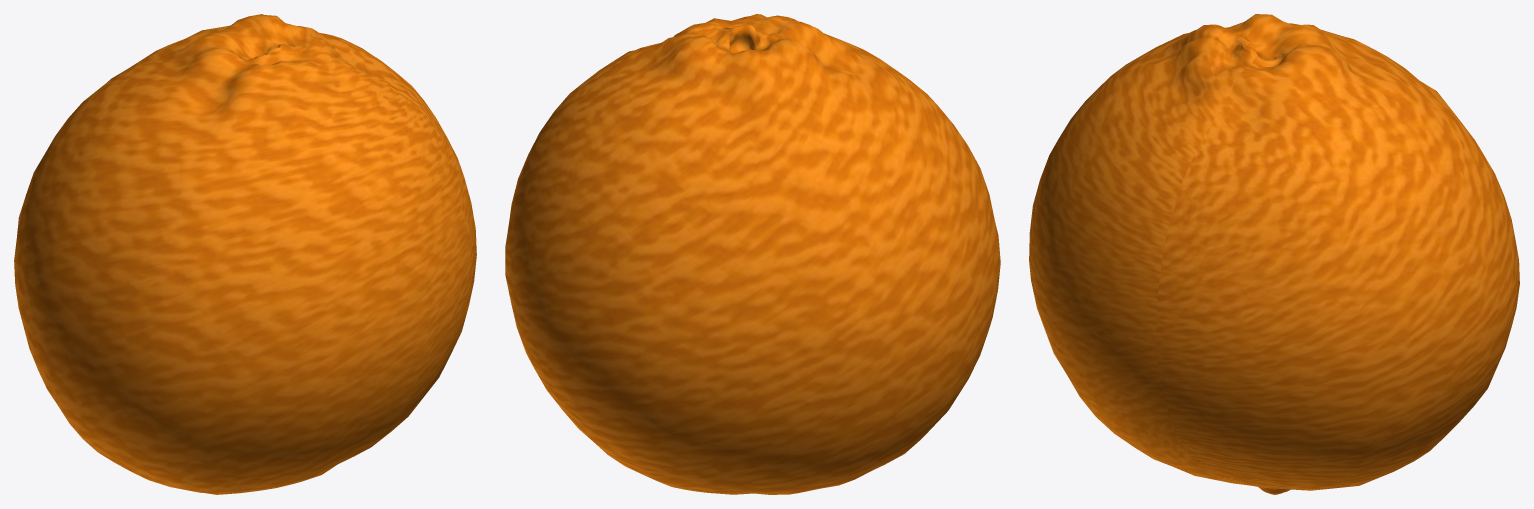
File: Orange.fbx
3 views of the same model, side by side, from view 1: azimuth 30°, elevation 25°; view 2: azimuth 150°, elevation 25°; view 3: azimuth 270°, elevation 25° (orthographic). The views are drawn at different scales.
Parts seen in each view (by area): view 1: Lime; view 2: Lime; view 3: Lime.
Part boxes in pixels (x1,y1,x2,y2): Lime: (14,14,476,494); Lime: (505,14,1000,494); Lime: (1029,14,1519,494).
Bounding box in the file's own units: 10.34 × 10.6 × 10.39.
1 material, 1 textured.
